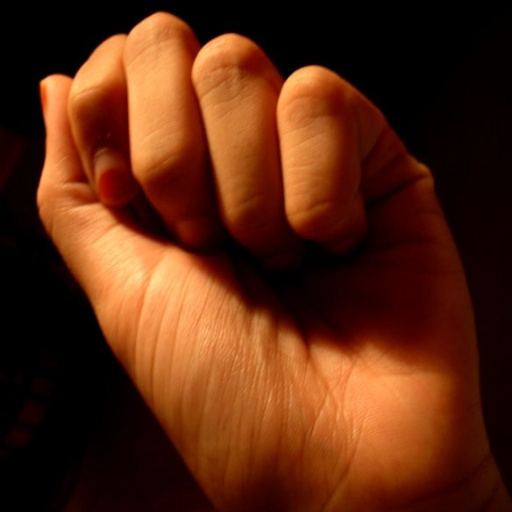hand: (31, 9, 490, 510)
